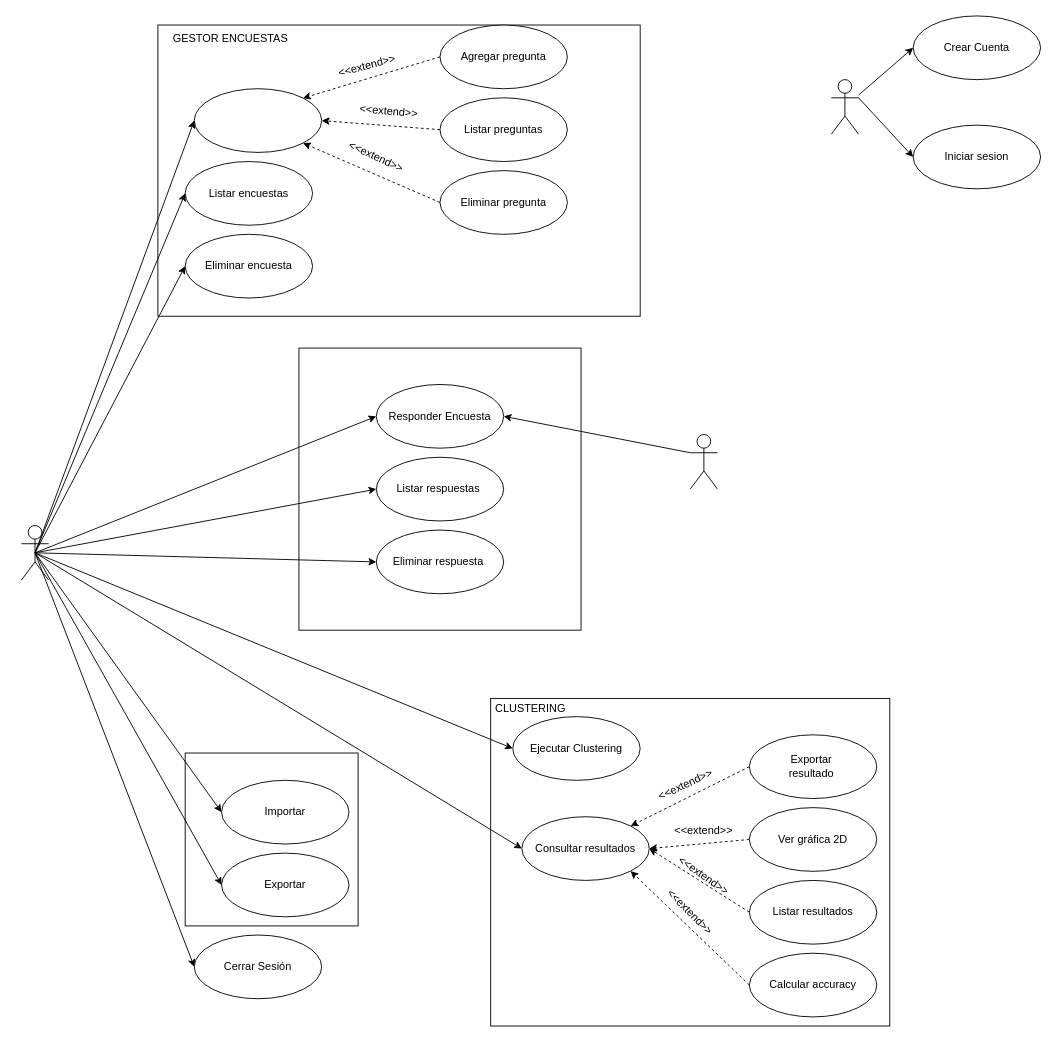
Image size: 1057x1042. Some labels were removed from this diagram. Here are the shapes that lost their labels. From the top down, the box of each, then its label:
(193, 88, 322, 152): Crear / Editar encuesta
(830, 79, 859, 134): Usuario No Registrado
(689, 434, 718, 489): Usuario Registrado (No creador)
(298, 347, 581, 630): GESTOR RESPUESTAS
(20, 525, 49, 580): Usuario Creador
(184, 752, 358, 926): GESTOR DE DATOS
